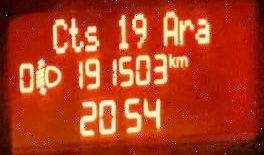0: (95, 96, 118, 135), (133, 53, 150, 87), (16, 60, 33, 93)
1: (116, 10, 129, 50), (76, 60, 83, 90), (111, 56, 116, 89)
2: (78, 97, 95, 135)
3: (152, 51, 166, 85)
4: (142, 96, 161, 130)
5: (122, 95, 141, 135), (117, 53, 132, 87)
9: (130, 9, 146, 47), (85, 56, 101, 89)
X: (50, 12, 67, 56), (161, 9, 178, 46), (66, 17, 82, 55), (193, 17, 212, 48), (84, 21, 100, 53), (178, 17, 193, 45), (174, 54, 187, 70), (168, 51, 175, 69)
